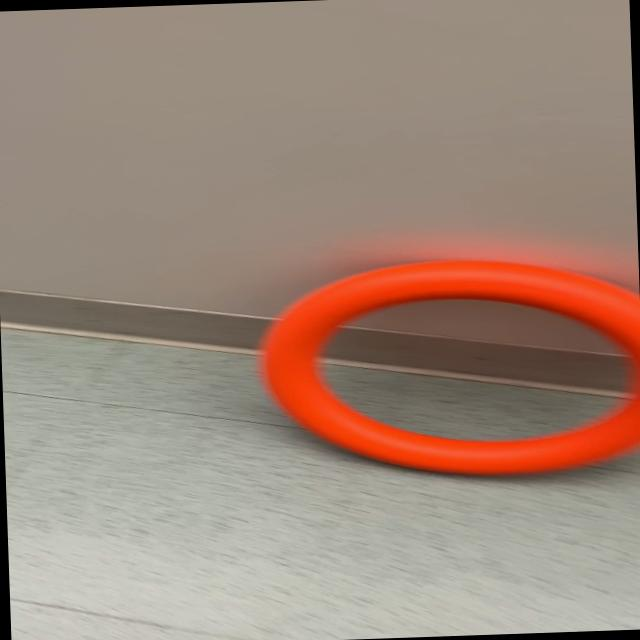note: (253, 251, 640, 484)
